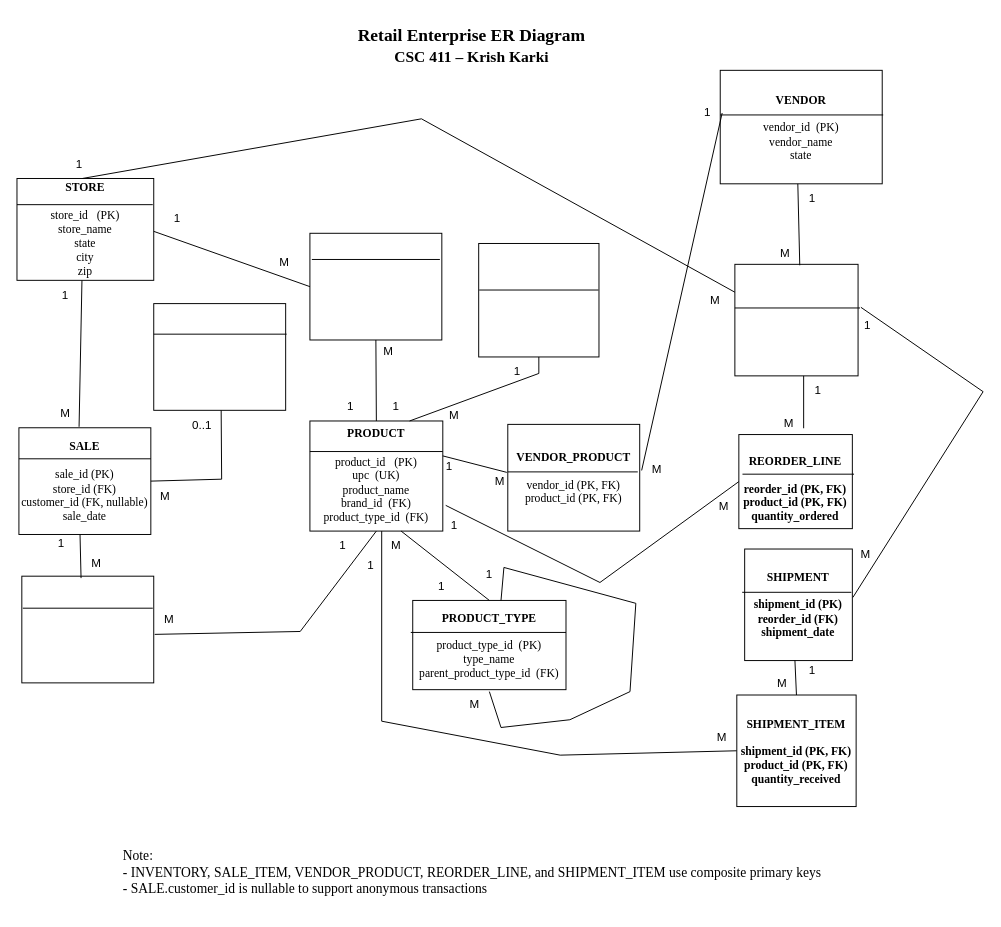
Image size: 1001x927. Some labels were removed from this diagram. Each missing label, with the centre of its shape:
"BRAND brand_id (PK) brand_name" belongs at point (538, 299).
"CUSTOMER customer_id (PK) first_name last_name email is_loyalty_member" belongs at point (219, 356).
"INVENTORY store_id (PK, FK) product_id (PK, FK) sale_price quantity reorder_qty" belongs at point (375, 286).
"REORDER reorder_id (PK) store_id (FK) vendor_id (FK) order_date" belongs at point (796, 319).
"SALE_ITEM sale_id (PK, FK) product_id (PK, FK) quantity unit_price" belongs at point (87, 629).
